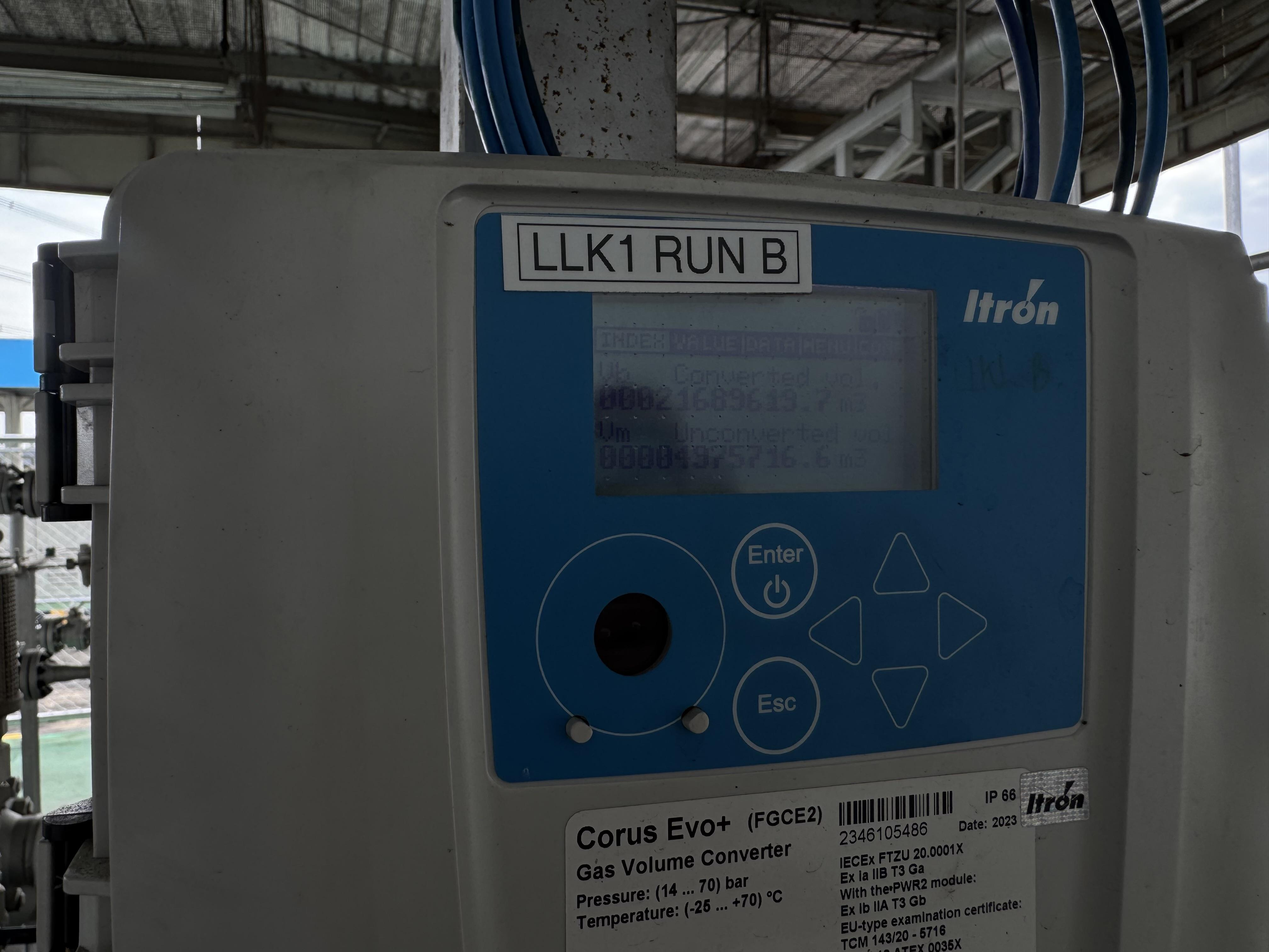digital_screen: (592, 272, 940, 497)
